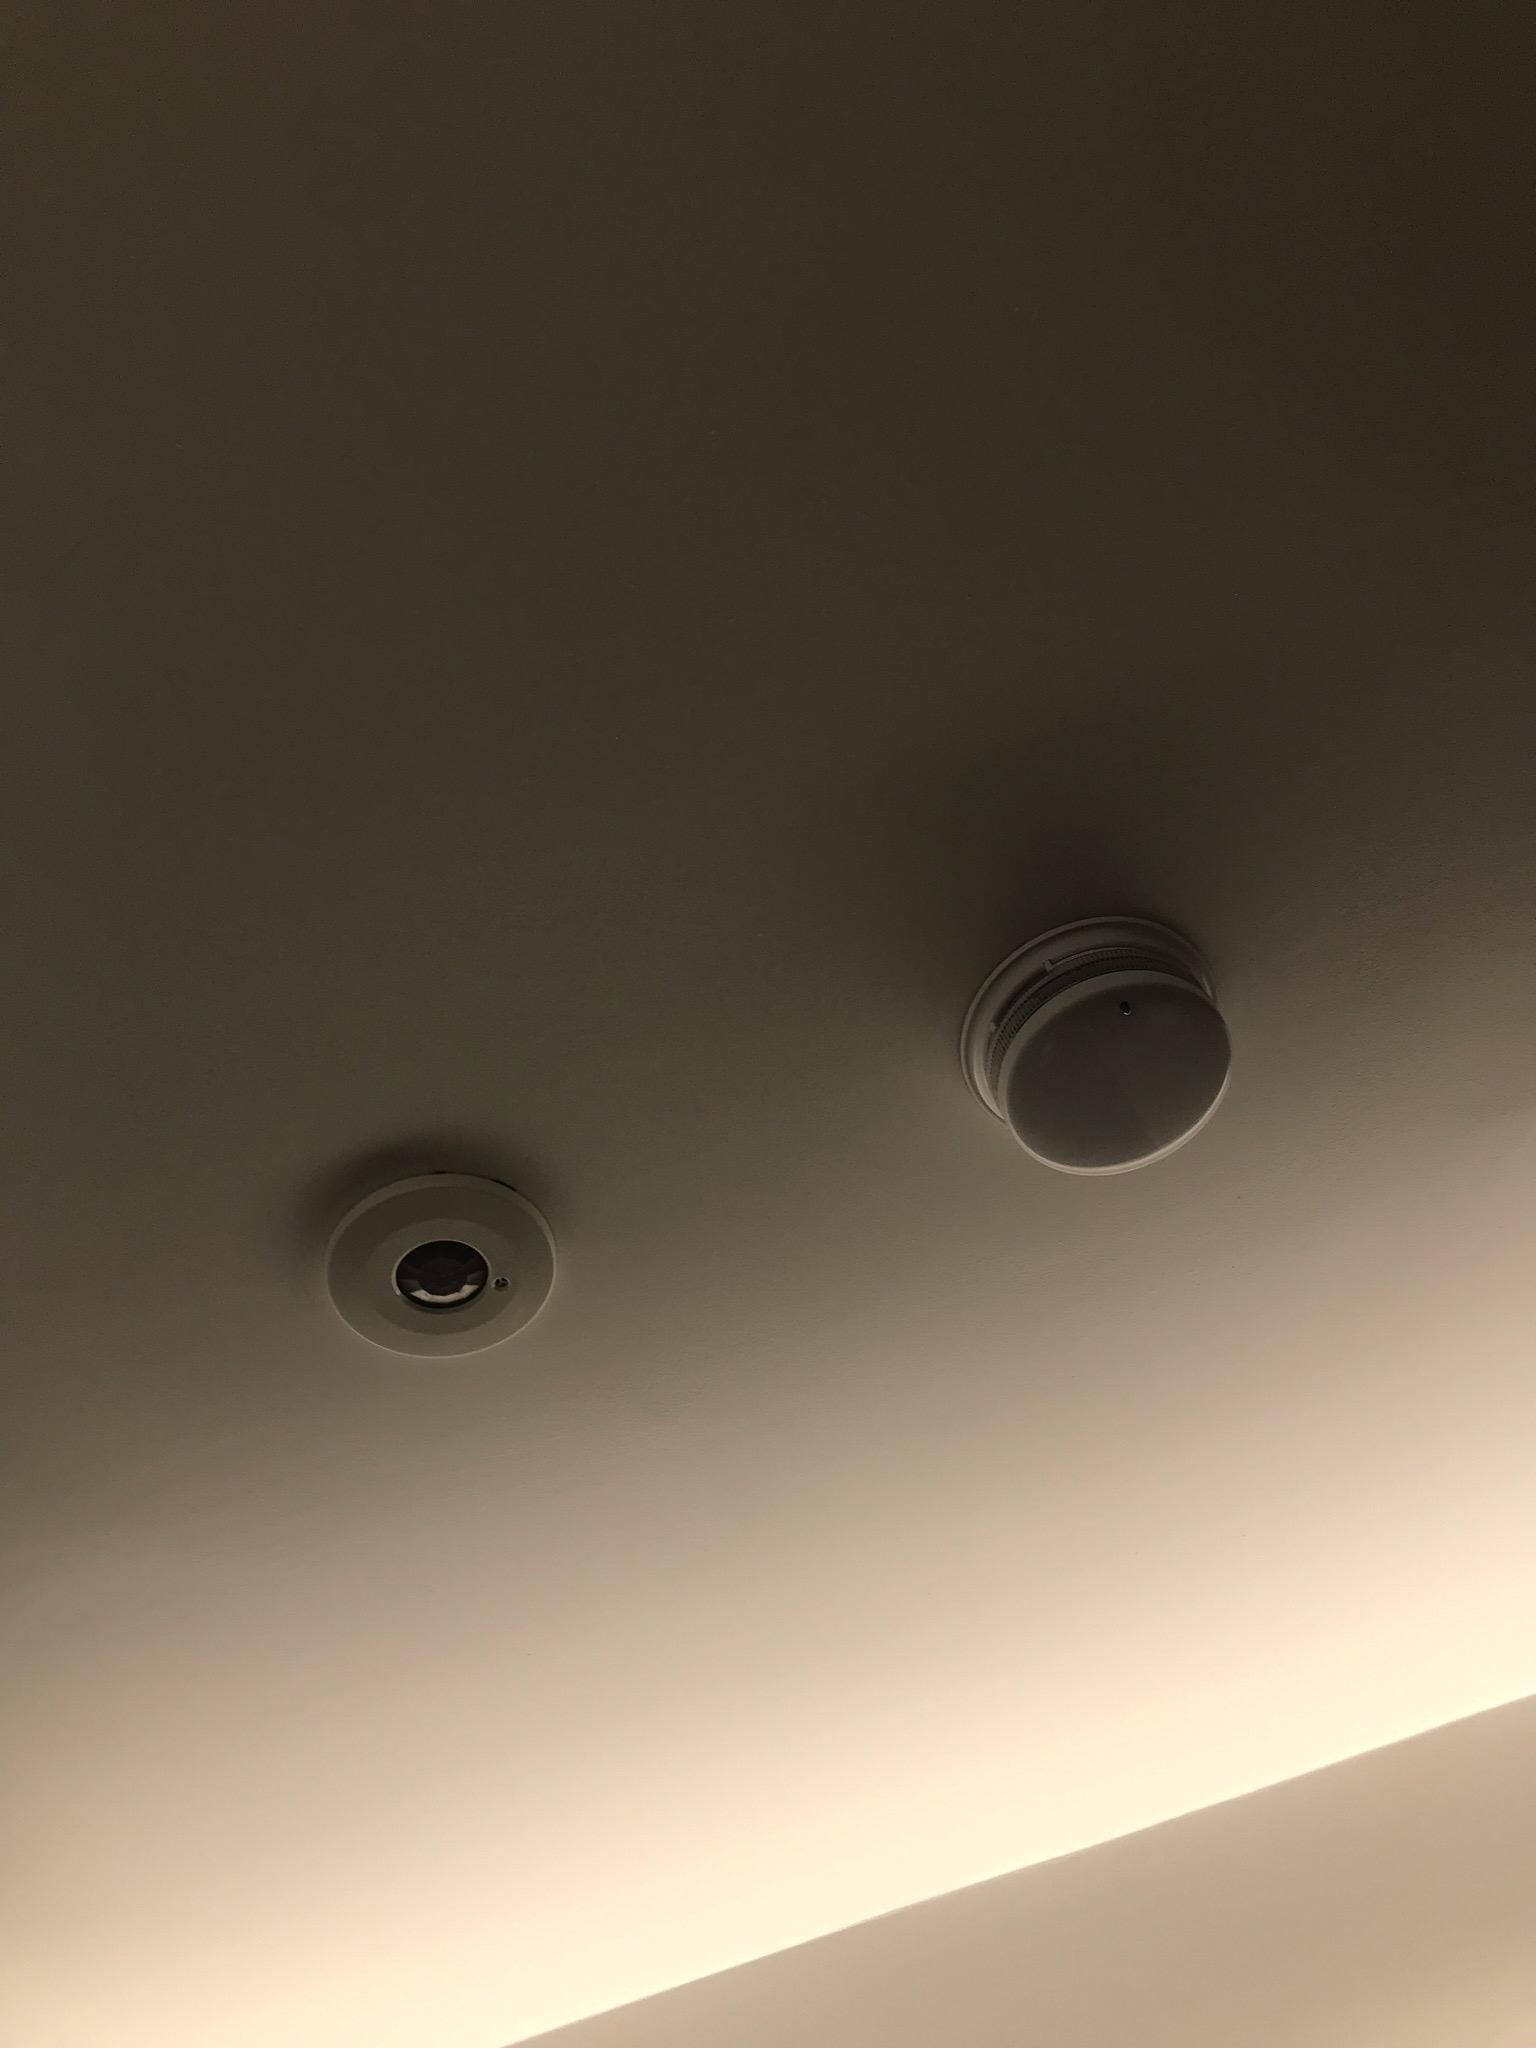detector: (955, 913, 1234, 1177)
